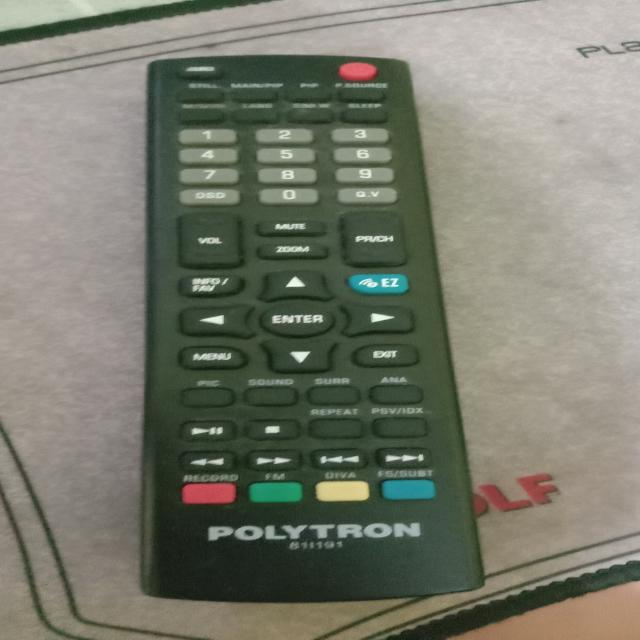remote: (125, 52, 489, 597)
